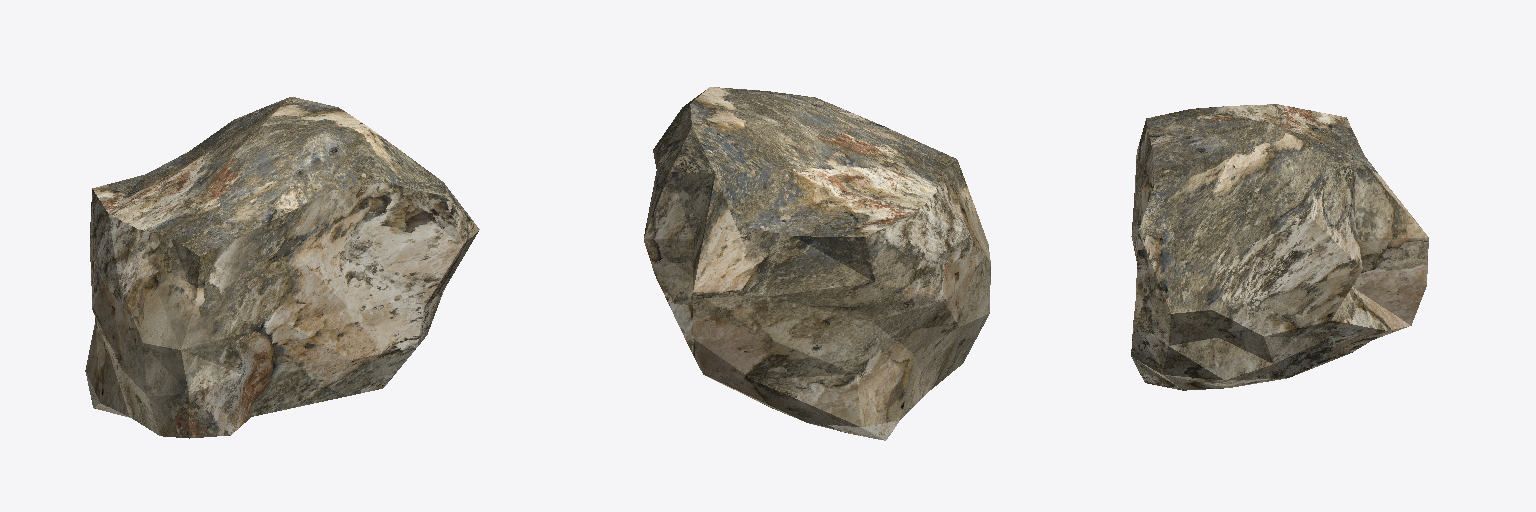
3 views of the same model, side by side, from view 1: azimuth 30°, elevation 25°; view 2: azimuth 150°, elevation 25°; view 3: azimuth 270°, elevation 25° (orthographic).
Visible parts, largest first — view 1: Cube; view 2: Cube; view 3: Cube.
Boxes of the visible parts, <box> form: Cube: <box>85,97,479,438</box>; Cube: <box>644,87,990,440</box>; Cube: <box>1131,104,1428,390</box>.
Bounding box in the file's own units: 4.05 × 3.07 × 3.08.
Materials: 1 (1 with a texture image).